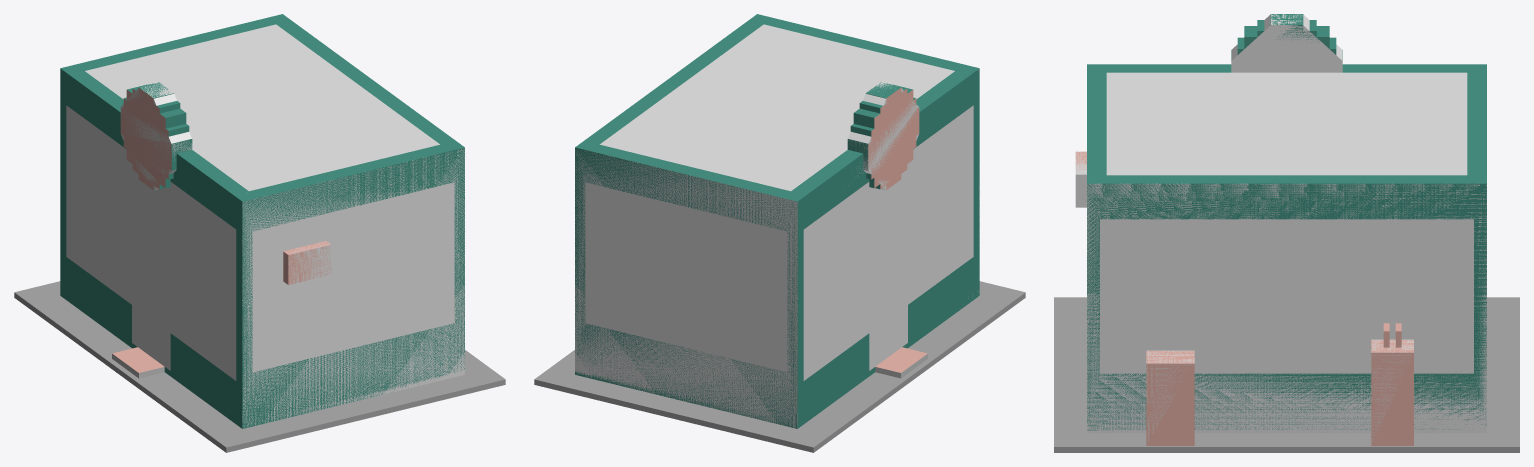
Rendered from Building_B2_Home09_1_01.FBX.
The picture shows the model from 3 angles, left to right: view 1: azimuth 30°, elevation 25°; view 2: azimuth 150°, elevation 25°; view 3: azimuth 270°, elevation 25°; orthographic projection. The views are drawn at different scales.
Parts seen in each view (by area): view 1: Building_B2_Home09_Damage_1_01, Building_B2_Home09_Live_1_01; view 2: Building_B2_Home09_Damage_1_01, Building_B2_Home09_Live_1_01; view 3: Building_B2_Home09_Damage_1_01, Building_B2_Home09_Live_1_01.
Boxes of the visible parts, x1,y1,x2,y2 form: Building_B2_Home09_Damage_1_01: [66, 24, 464, 428]; Building_B2_Home09_Live_1_01: [14, 14, 505, 452]; Building_B2_Home09_Damage_1_01: [575, 24, 979, 428]; Building_B2_Home09_Live_1_01: [534, 14, 1025, 452]; Building_B2_Home09_Damage_1_01: [1075, 14, 1486, 441]; Building_B2_Home09_Live_1_01: [1054, 14, 1519, 452].
Bounding box in the file's own units: 7.02 × 6.63 × 9.23.
